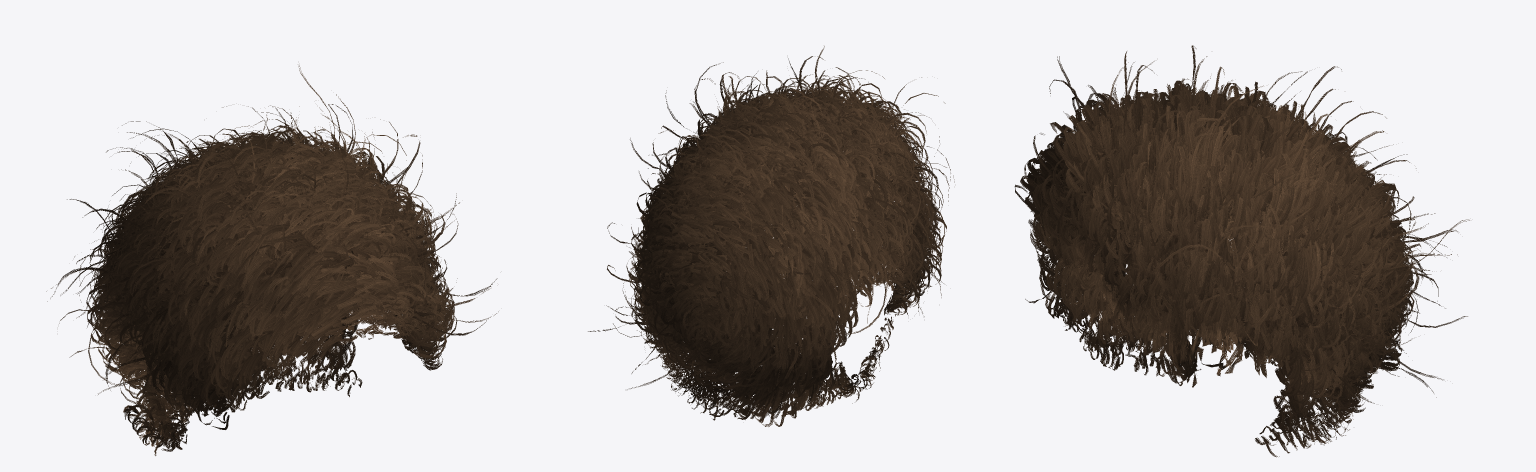
Rendered from hair-curly-v41.glb.
The picture shows the model from 3 angles, left to right: view 1: azimuth 30°, elevation 25°; view 2: azimuth 150°, elevation 25°; view 3: azimuth 270°, elevation 25°; orthographic projection. The views are drawn at different scales.
Visible parts, largest first — view 1: hair-curly-v41; view 2: hair-curly-v41; view 3: hair-curly-v41.
Part boxes in pixels (x1,y1,x2,y2): hair-curly-v41: (46,65,498,455); hair-curly-v41: (588,46,954,426); hair-curly-v41: (1014,45,1469,457).
Bounding box in the file's own units: 1.49 × 1.52 × 1.78.
Materials: 1 (1 with a texture image).
